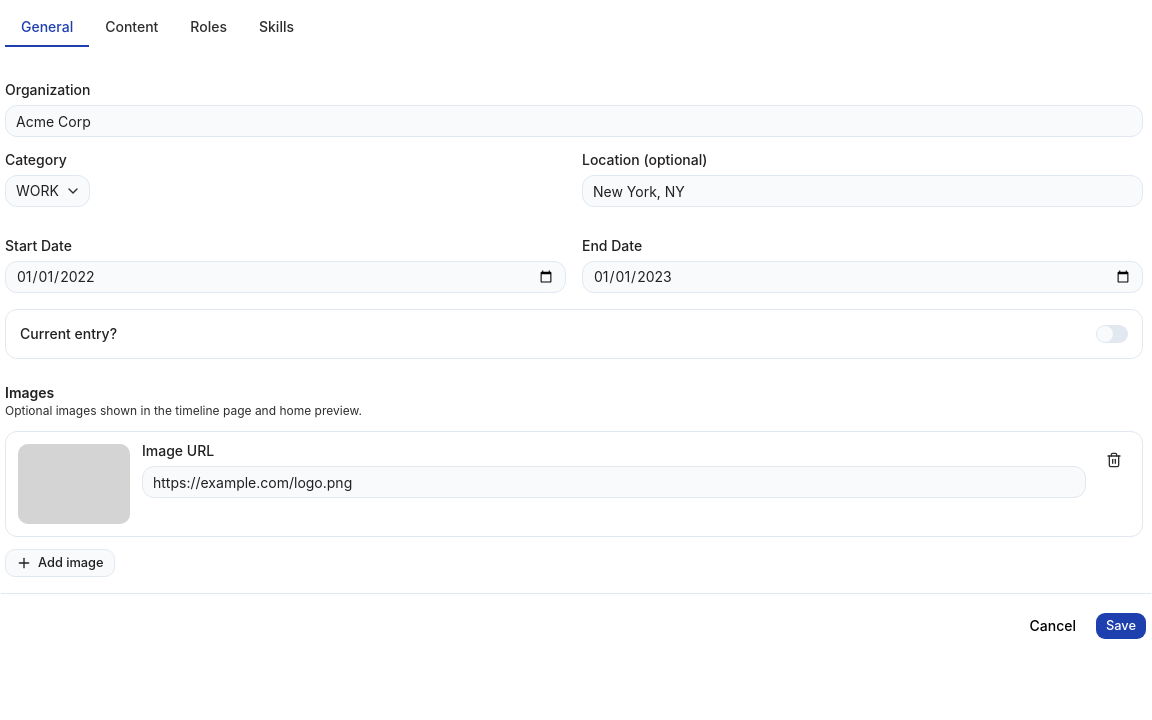
Test case: TimelineItemForm › navigates to Content tab and renders AdminFormLanguageBar and translation fields
Click the tab "Content": point(132, 27) [89,7,174,47]
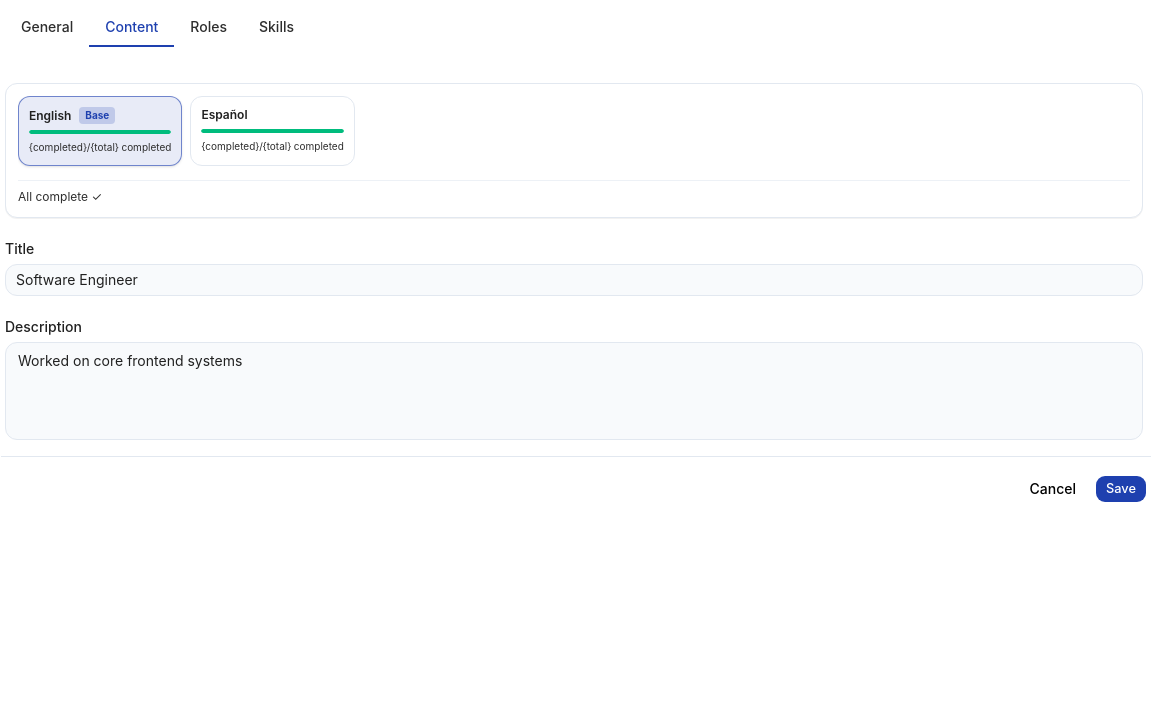
Expected: the text "English" is shown, [29,108,71,124]
Expected: the text "Español" is shown, [201,107,248,123]
Expected: the field showing "Software Engineer" is shown, [5,264,1143,296]
